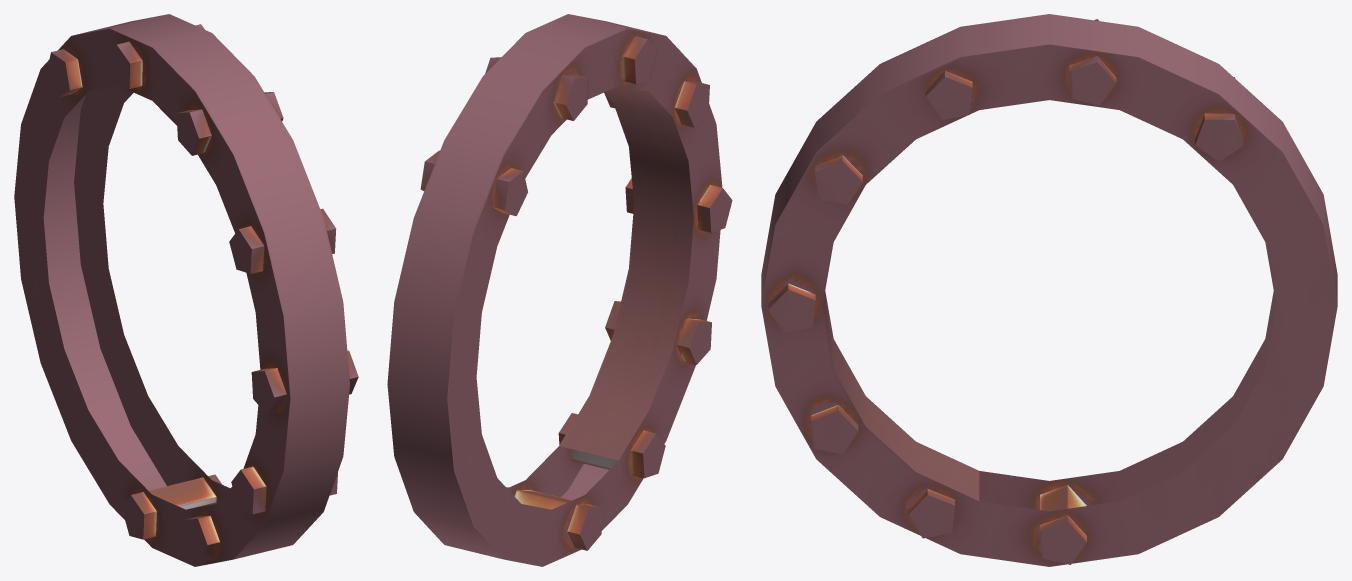
Rendered from openPipe_rivet 1.fbx.
3 renders of one model, left to right at view 1: azimuth 30°, elevation 25°; view 2: azimuth 150°, elevation 25°; view 3: azimuth 270°, elevation 25°, orthographic. The views are drawn at different scales.
Visible parts, largest first — view 1: flangePlate_metalBand; view 2: flangePlate_metalBand; view 3: flangePlate_metalBand.
Boxes of the visible parts, box(x1,y1,x2,y2) form: flangePlate_metalBand: box(14, 14, 358, 566); flangePlate_metalBand: box(387, 14, 732, 566); flangePlate_metalBand: box(761, 14, 1337, 566).
Bounding box in the file's own units: 0.659 × 3.74 × 3.74.
Materials: 1 (1 with a texture image).
